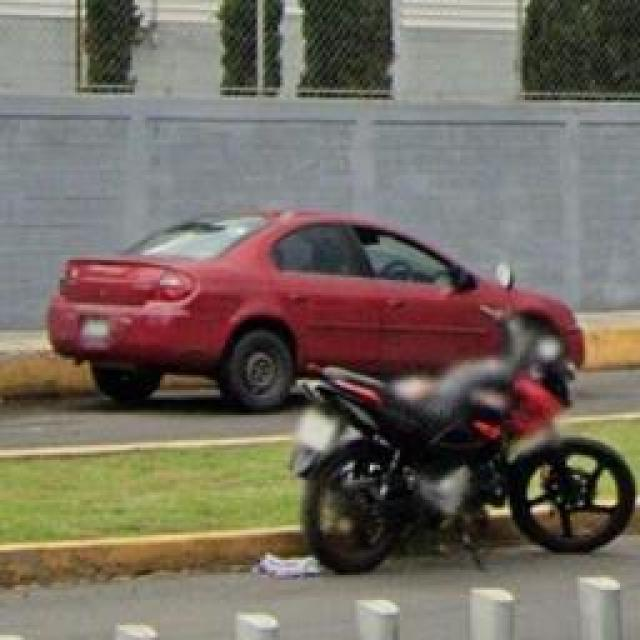motorcycle: (290, 310, 638, 575)
